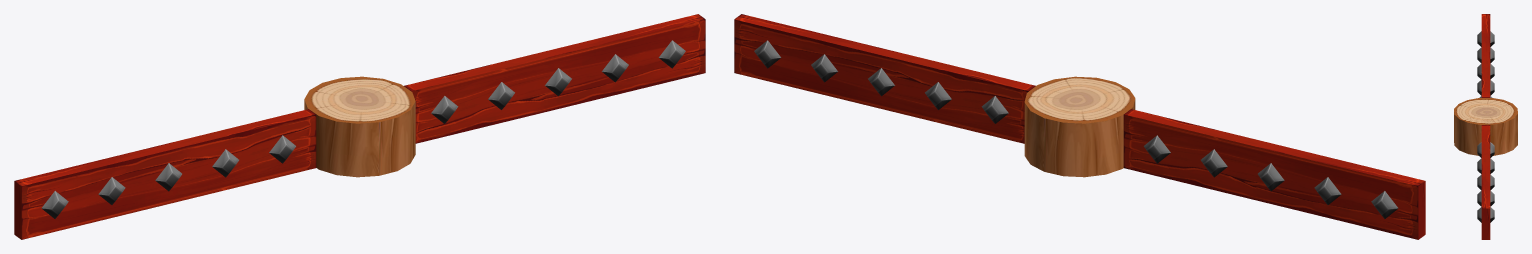
File: two_blade_red_03.fbx
The picture shows the model from 3 angles, left to right: view 1: azimuth 30°, elevation 25°; view 2: azimuth 150°, elevation 25°; view 3: azimuth 270°, elevation 25°; orthographic projection. The views are drawn at different scales.
Parts seen in each view (by area): view 1: two_blade_red_03; view 2: two_blade_red_03; view 3: two_blade_red_03.
Boxes of the visible parts, x1,y1,x2,y2 form: two_blade_red_03: (14, 14, 705, 239); two_blade_red_03: (734, 14, 1425, 239); two_blade_red_03: (1454, 14, 1517, 239).
Bounding box in the file's own units: 534 × 40 × 74.15.
